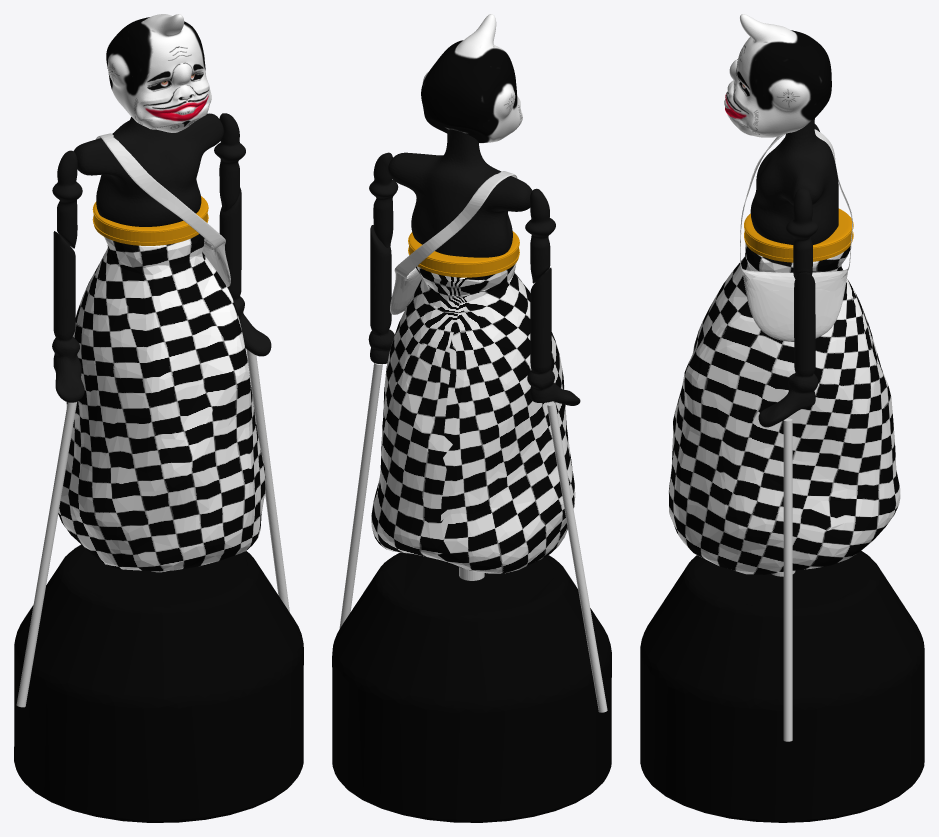
The model's file is Semar Final.fbx.
The picture shows the model from 3 angles, left to right: view 1: azimuth 30°, elevation 25°; view 2: azimuth 150°, elevation 25°; view 3: azimuth 270°, elevation 25°; orthographic projection. The views are drawn at different scales.
Visible parts, largest first — view 1: Block, Sarung, Sphere, Torso, Lower arm, Upper arm, Hand Stasis R, Plane, Hand Stasis L, Cylinder.002; view 2: Block, Sarung, Torso, Sphere, Lower arm, Upper arm, Hand Stasis R, Plane, Hand Stasis L, Cylinder.002; view 3: Block, Sarung, Sphere, Torso, Plane, Lower arm, Hand Stasis L, Cylinder.002, Upper arm.
Part boxes in pixels (x1,y1,x2,y2): Block: (14,544,303,822); Sarung: (58,234,265,571); Sphere: (106,14,211,132); Torso: (74,113,223,226); Lower arm: (52,187,271,402); Upper arm: (52,113,245,248); Hand Stasis R: (16,402,76,707); Plane: (96,133,230,287); Hand Stasis L: (246,349,289,612); Cylinder.002: (92,196,208,245); Block: (332,552,611,822); Sarung: (371,262,575,573); Torso: (388,129,532,257); Sphere: (421,14,522,143); Lower arm: (368,225,580,405); Upper arm: (369,152,555,283); Hand Stasis R: (547,402,607,712); Plane: (390,171,517,314); Hand Stasis L: (339,363,382,629); Cylinder.002: (408,231,519,277); Block: (640,550,924,822); Sarung: (668,243,900,574); Sphere: (724,14,831,137); Torso: (750,118,838,244); Plane: (740,129,852,341); Lower arm: (758,272,818,427); Hand Stasis L: (783,418,792,741); Cylinder.002: (744,208,853,262); Upper arm: (786,188,818,278).
Bounding box in the file's own units: 404 × 1064 × 365.
Materials: 5 (2 with a texture image).
